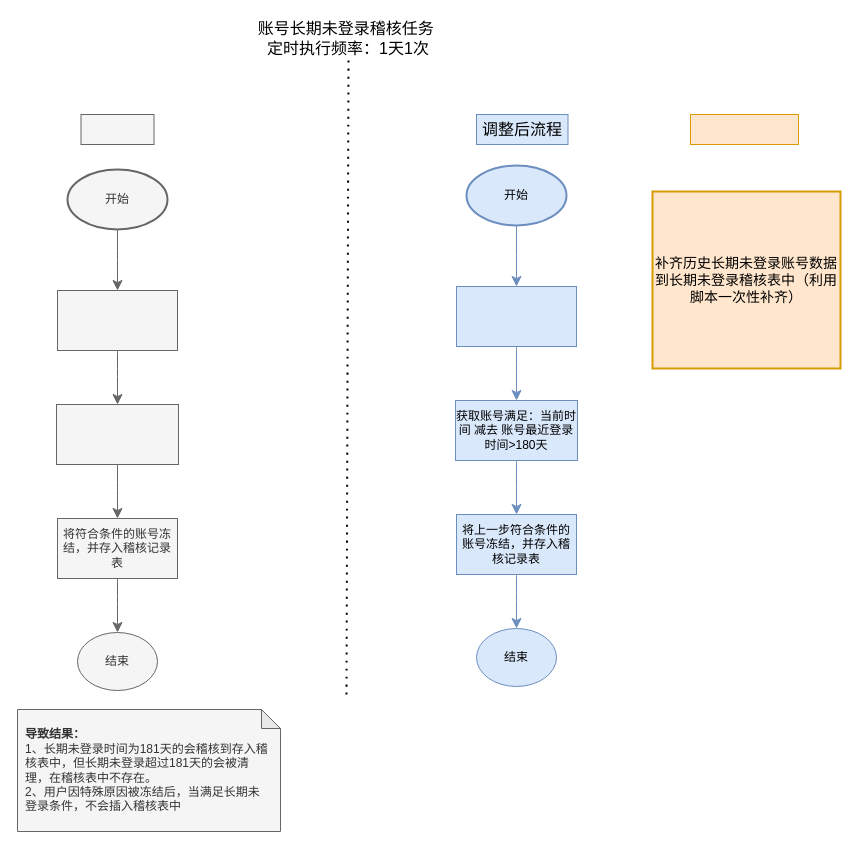
This 859x849 diagram has some shape labels left out. Here are the shapes that lost their labels. From the top down, the centre of each, then its label:
(x=117, y=129): 当前流程
(x=744, y=129): 补齐稽核数据
(x=117, y=320): 清空稽核记录表
(x=516, y=316): 稽核记录表关联账号表，将账号状态为正常的数据删除
(x=117, y=434): 获取账号状态为正常，且当前时间 减去 账号最近登录时间>180天
